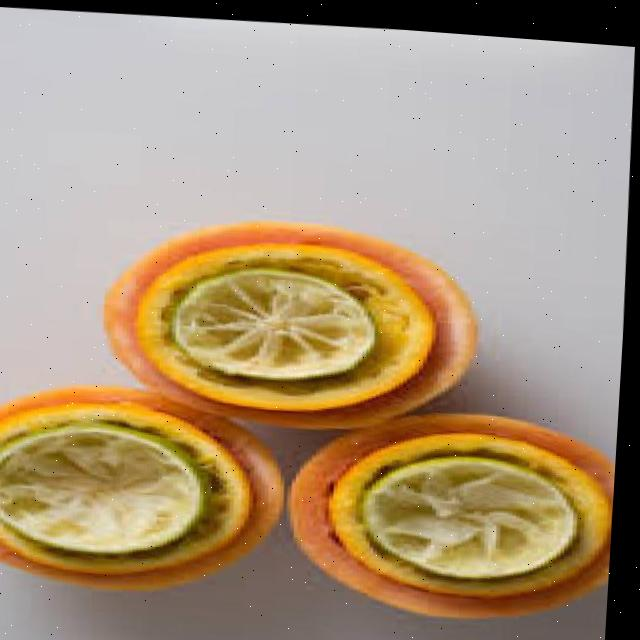Wet: (0, 184, 631, 630), (101, 202, 490, 434), (168, 252, 382, 383)
